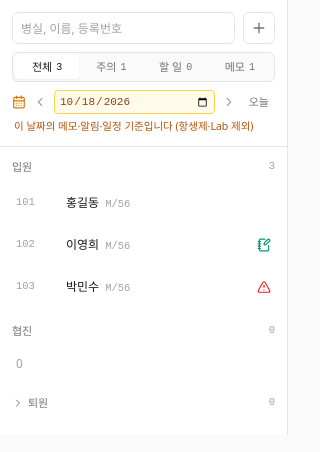
Test case: PatientRail 기준일 › filters by the indicators it is given, whatever date they came from
The image size is (320, 452).
Click the button "메모 1": (240, 67) [208, 55, 272, 79]
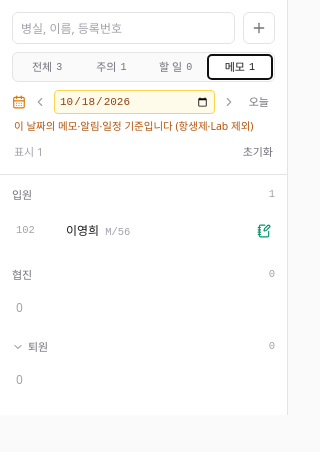
Expected: the text "이영희" is shown, [66, 222, 99, 239]
Expected: the button "홍길동" is gone
